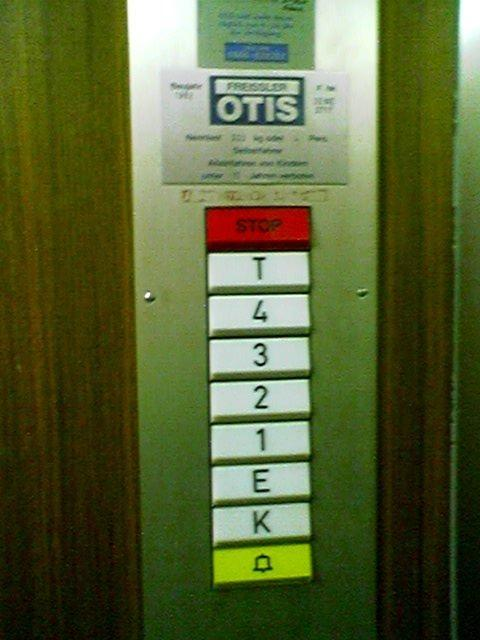1: (206, 416, 314, 465)
2: (205, 374, 315, 420)
3: (206, 331, 311, 379)
4: (205, 289, 312, 333)
alarm: (208, 539, 315, 585)
stop: (201, 200, 313, 250)
unknown: (208, 497, 313, 546), (203, 246, 312, 293), (207, 459, 312, 502)
